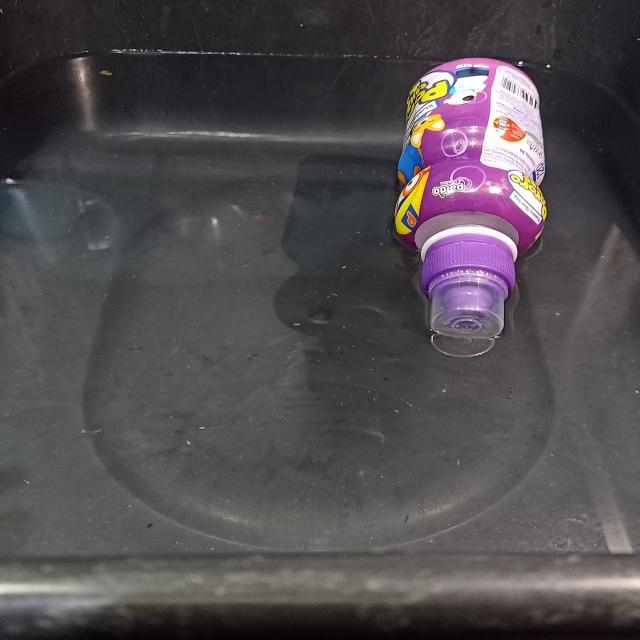Plastic Bottle: (394, 58, 547, 349)
